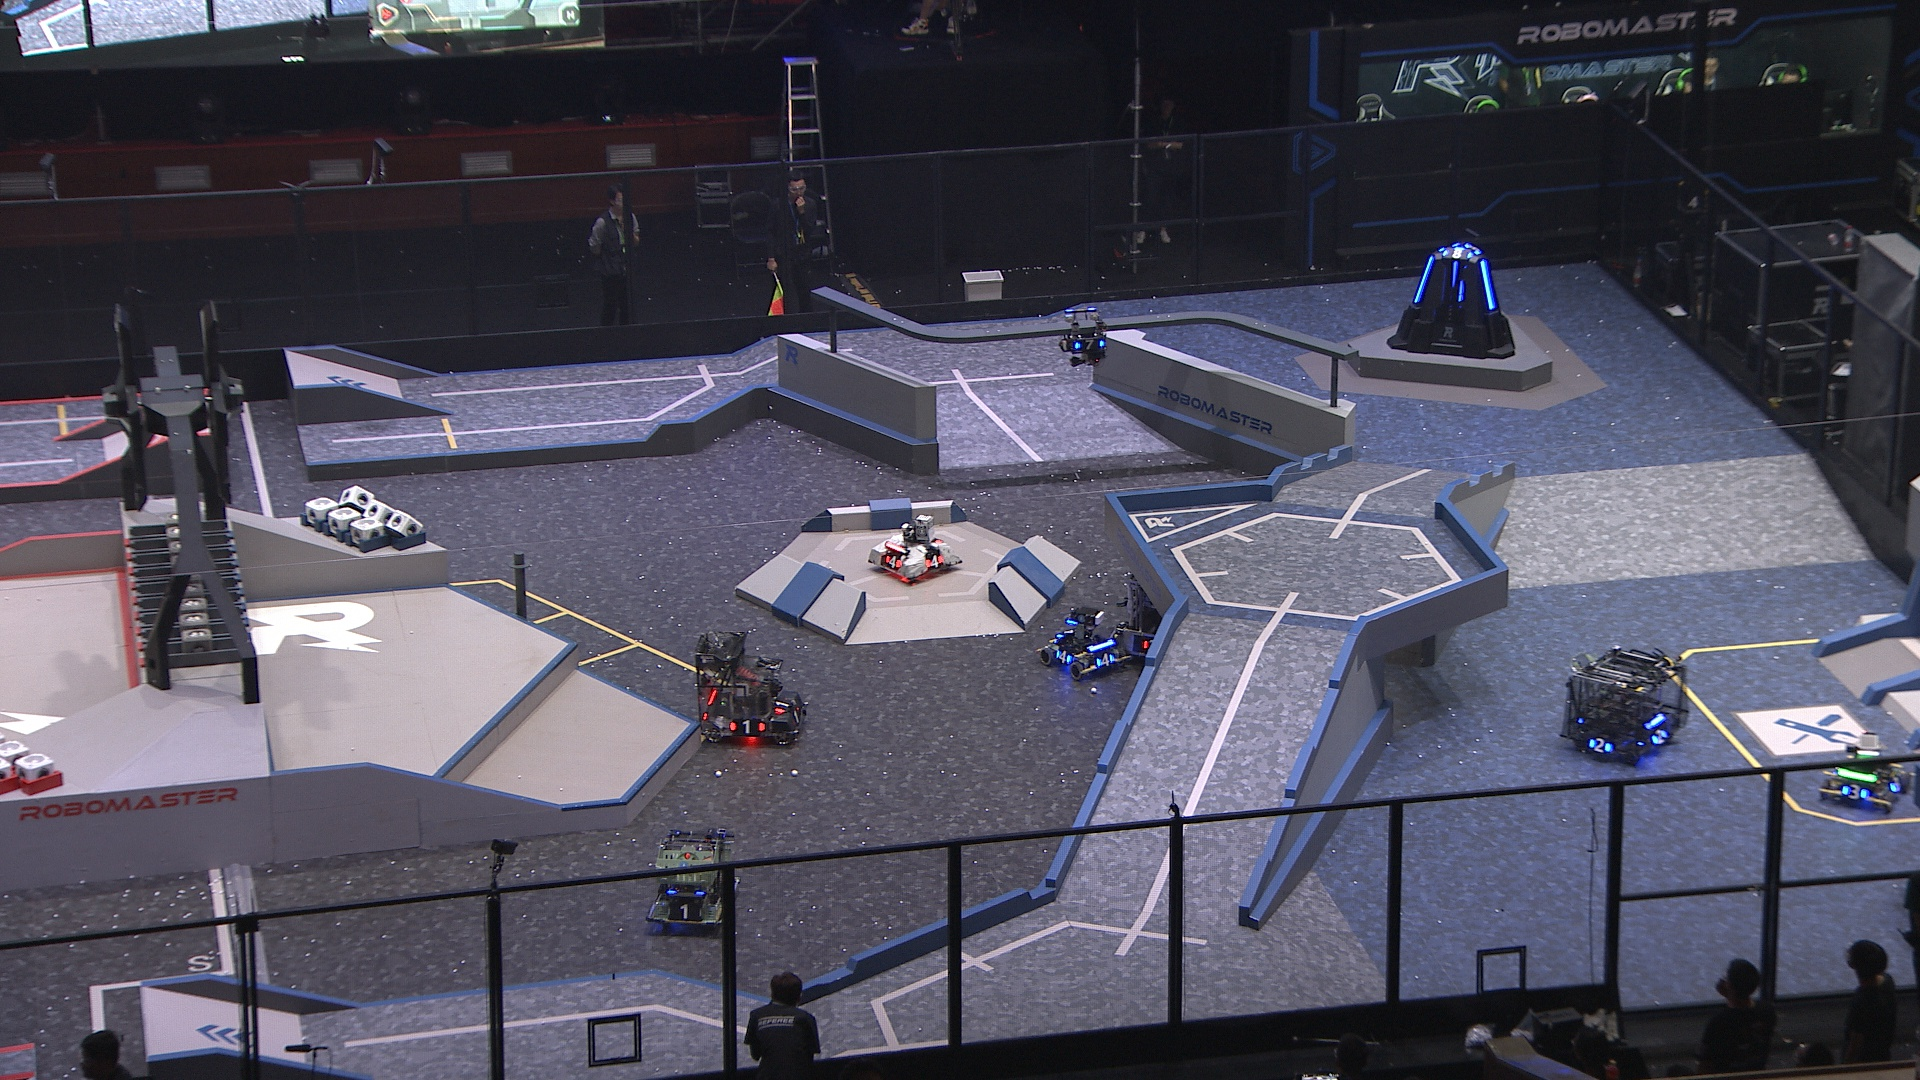armor: (1411, 253, 1437, 306), (1480, 258, 1498, 311), (667, 899, 703, 920), (731, 717, 766, 735), (1840, 783, 1869, 803), (1441, 245, 1476, 261), (1073, 338, 1106, 353), (1589, 736, 1614, 756), (1648, 727, 1669, 746), (923, 553, 948, 568), (1888, 775, 1905, 796), (1092, 651, 1116, 666), (1054, 647, 1072, 666), (884, 553, 902, 571), (769, 698, 789, 713), (789, 707, 804, 725), (1054, 626, 1073, 641), (1456, 280, 1466, 301), (1449, 262, 1456, 290)
base: (1389, 243, 1518, 360)
car: (1556, 645, 1689, 765), (694, 626, 808, 746), (1110, 559, 1211, 665), (646, 828, 742, 932), (1817, 731, 1912, 814), (866, 514, 964, 585), (1035, 607, 1129, 679)
watcher: (1062, 309, 1112, 367)
